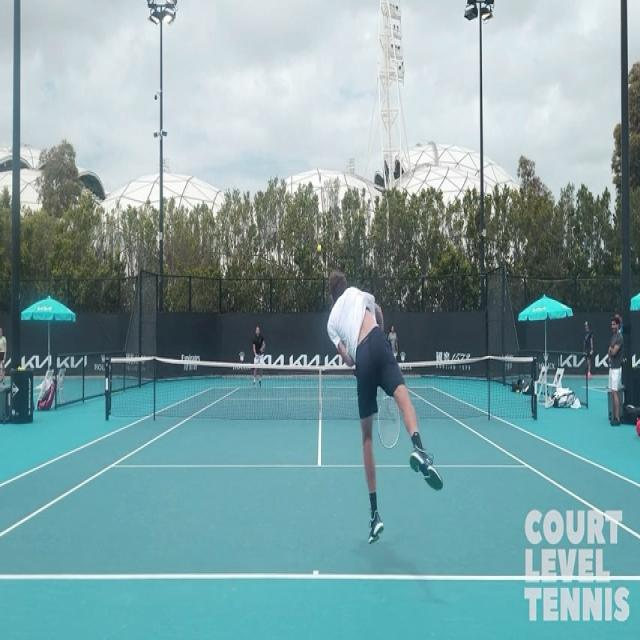serve_followthrough: (326, 252, 442, 547)
